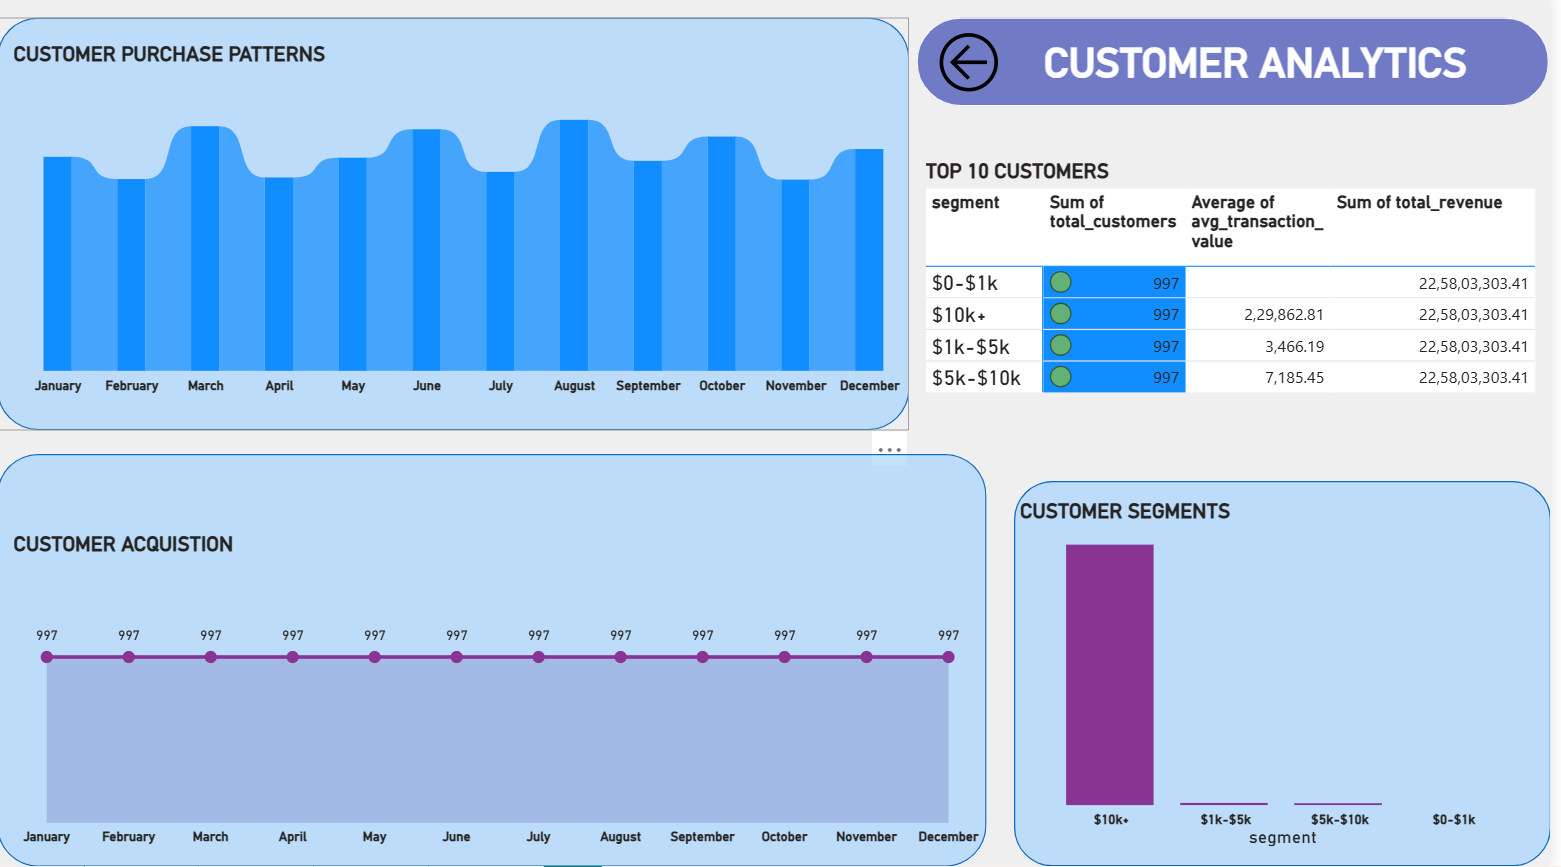

What the dashboard file says about the page in this screenshot:
{"tool":"powerbi","page":{"name":"Page 3","canvas":[1280,720],"ordinal":2},"visuals":[{"type":"shape","box":[837.6,403.5,442.4,317.4],"z":0},{"type":"shape","box":[0,20.5,751.6,340],"z":1000},{"type":"shape","box":[0,380.9,815.1,340],"z":2000},{"type":"clusteredColumnChart","title":"CUSTOMER SEGMENTS","fields":{"Category":["query3_customer_segments.segment"],"Y":["Sum(query3_customer_segments.customer_count)"]},"box":[837.6,417.8,442.4,290.8],"z":3000},{"type":"areaChart","title":"CUSTOMER ACQUISTION","fields":{"Category":["query2_monthly_trend.year_month.Variation.Date Hierarchy.Month"],"Y":["Count(query7_customer_lifetime_value.customer_id)"]},"box":[8.2,444.4,806.9,264.2],"z":4000},{"type":"pivotTable","title":"TOP 10 CUSTOMERS","fields":{"Rows":["query3_customer_segments.segment"],"Values":["Sum(query6_geographic_analysis.total_customers)","Avg(query3_customer_segments.avg_transaction_value)","Sum(query4_category_performance.total_revenue)"]},"box":[759.4,136.6,521.1,266.9],"z":5000},{"type":"ribbonChart","title":"CUSTOMER PURCHASE PATTERNS","fields":{"Category":["query2_monthly_trend.year_month.Variation.Date Hierarchy.Month"],"Y":["Sum(query2_monthly_trend.total_revenue)"]},"box":[8.2,41,751.6,297],"z":6000},{"type":"shape","box":[757.8,20.7,521.1,73.1],"z":7000},{"type":"textbox","box":[858.1,32.8,421.9,61.4],"z":8000},{"type":"actionButton","box":[770,26.6,90.1,61.4],"z":9000}]}

Visuals, with their boxes in screenshot pixels (x1, y1, x2, y2), scaled from the page's 1280x720 canvas onto the 1561x867 screenshot:
shape: l=1021, t=486, r=1560, b=866
shape: l=0, t=25, r=917, b=434
shape: l=0, t=459, r=994, b=866
"CUSTOMER SEGMENTS" clusteredColumnChart: l=1021, t=503, r=1560, b=853
"CUSTOMER ACQUISTION" areaChart: l=10, t=535, r=994, b=853
"TOP 10 CUSTOMERS" pivotTable: l=926, t=164, r=1560, b=486
"CUSTOMER PURCHASE PATTERNS" ribbonChart: l=10, t=49, r=927, b=407
shape: l=924, t=25, r=1560, b=113
textbox: l=1046, t=39, r=1560, b=113
actionButton: l=939, t=32, r=1049, b=106
